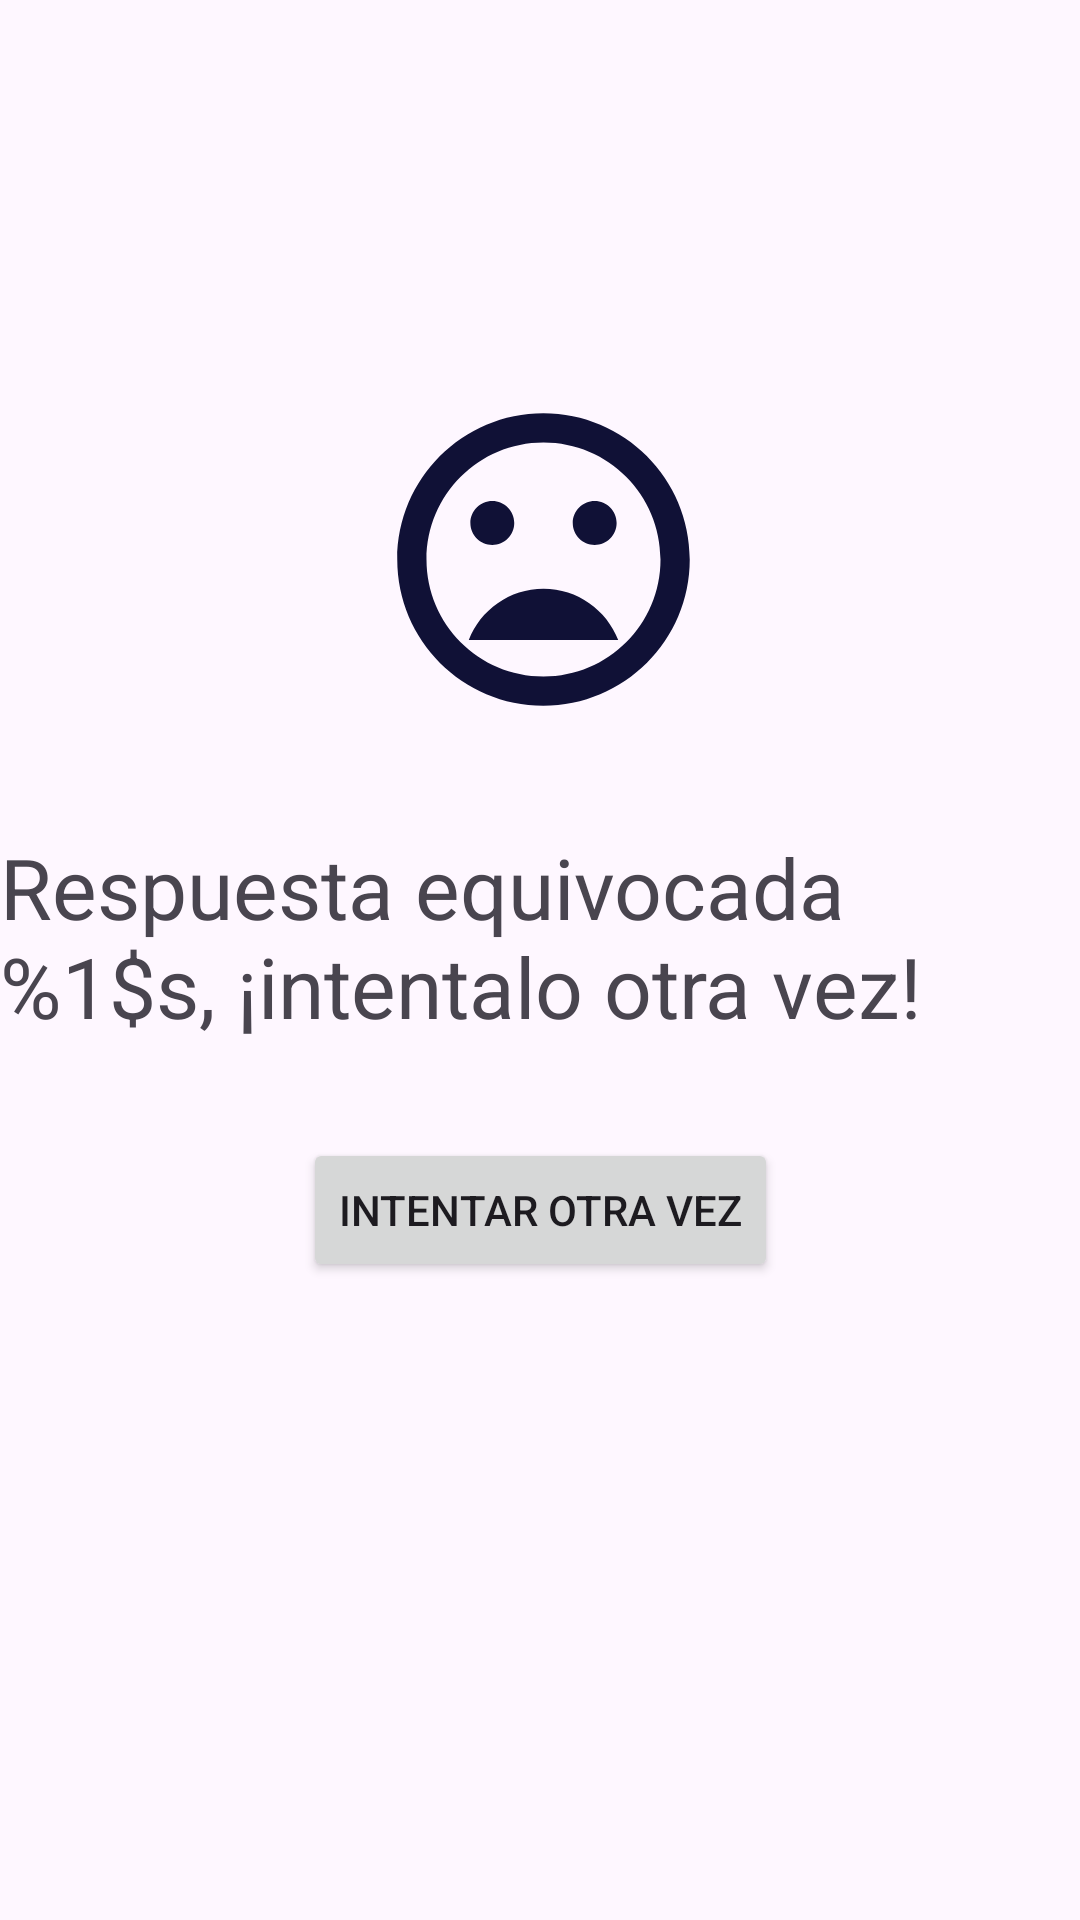

Icon click points for this 1080×1920 phone screenshot, format (x=x, y=y):
mood bad: (x=543, y=559)
